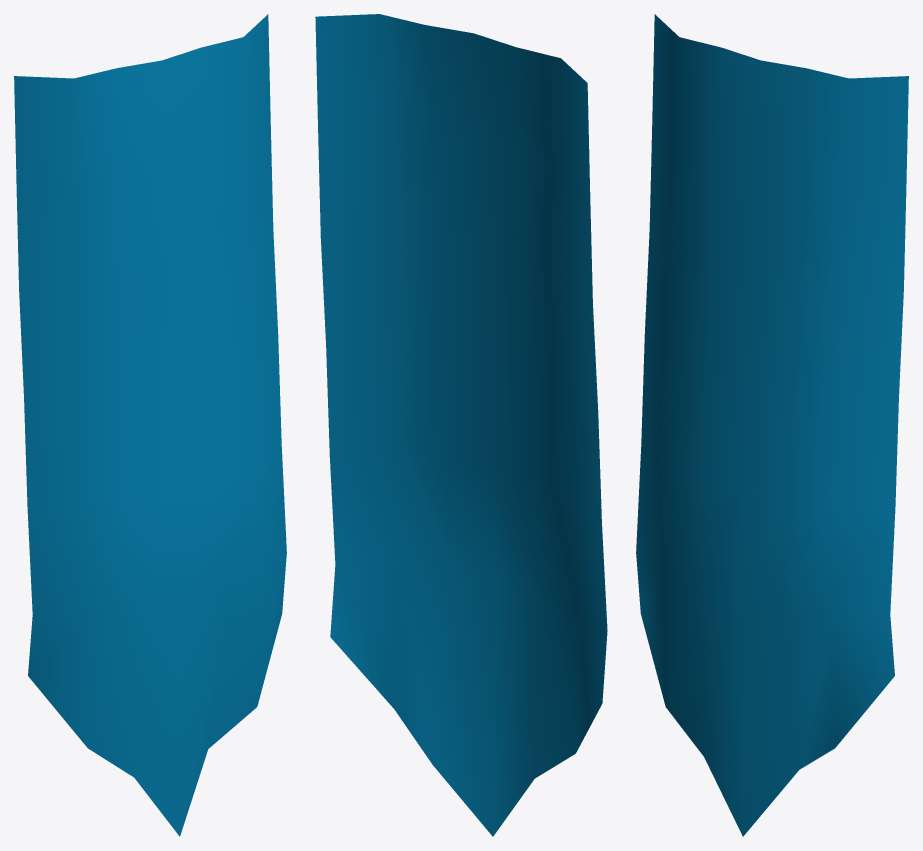
File: WaistCloth_Mid.fbx
The picture shows the model from 3 angles, left to right: view 1: azimuth 30°, elevation 25°; view 2: azimuth 150°, elevation 25°; view 3: azimuth 330°, elevation 25°; orthographic projection. The views are drawn at different scales.
Parts seen in each view (by area): view 1: WaistCloth_Mid; view 2: WaistCloth_Mid; view 3: WaistCloth_Mid.
Part boxes in pixels (<box>): WaistCloth_Mid: <box>14,14,286,836</box>; WaistCloth_Mid: <box>315,14,607,836</box>; WaistCloth_Mid: <box>636,14,908,836</box>.
Bounding box in the file's own units: 0.7222 × 2.07 × 0.2138.
